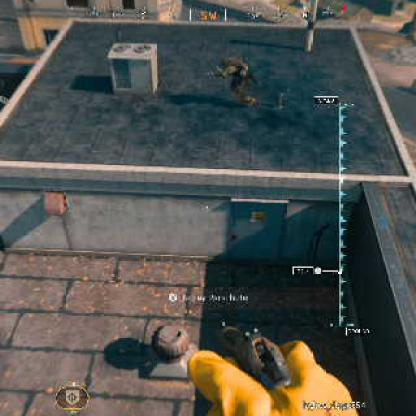enemy: (218, 52, 255, 100)
